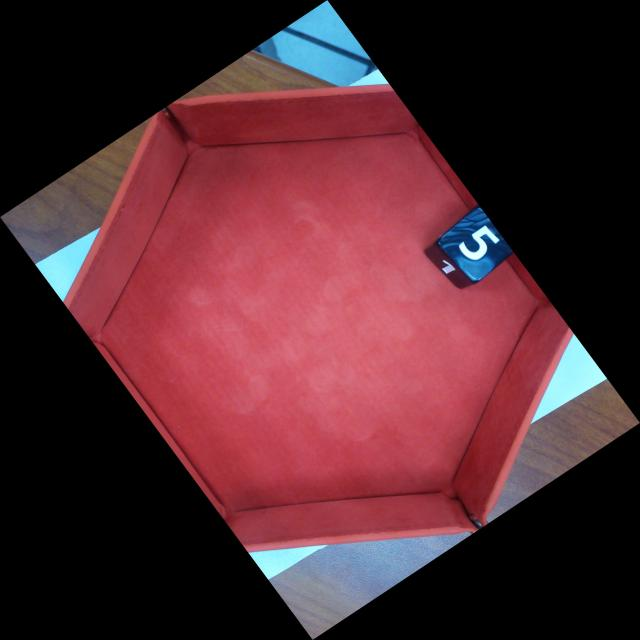dice: (439, 206, 515, 282)
